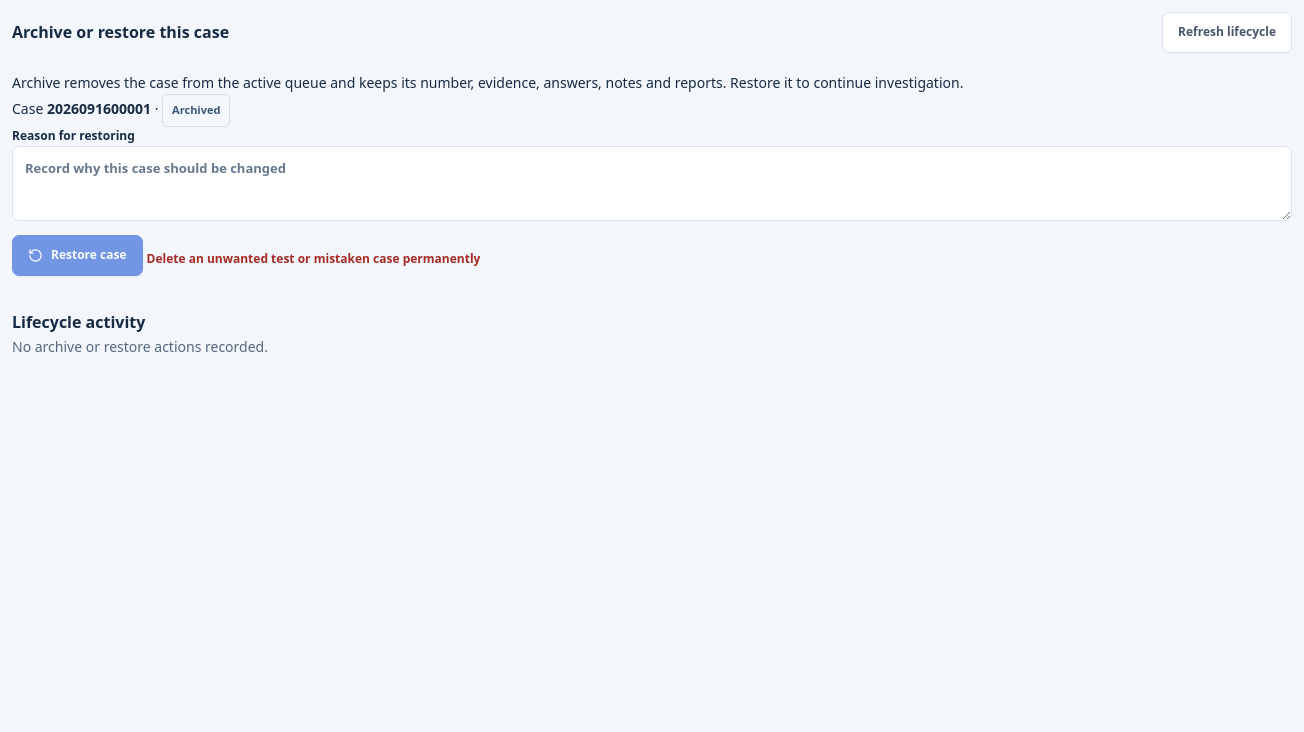
Test: private case lifecycle › leaves deletion mode when refresh finds that another session restored the case
The image size is (1304, 732).
Check: the text "2026091600001" is shown, box [47,99,151,118]
Click the button "Delete an unwanted test or mistaken case permanently" at point(313, 259), box [142,237,484,281]
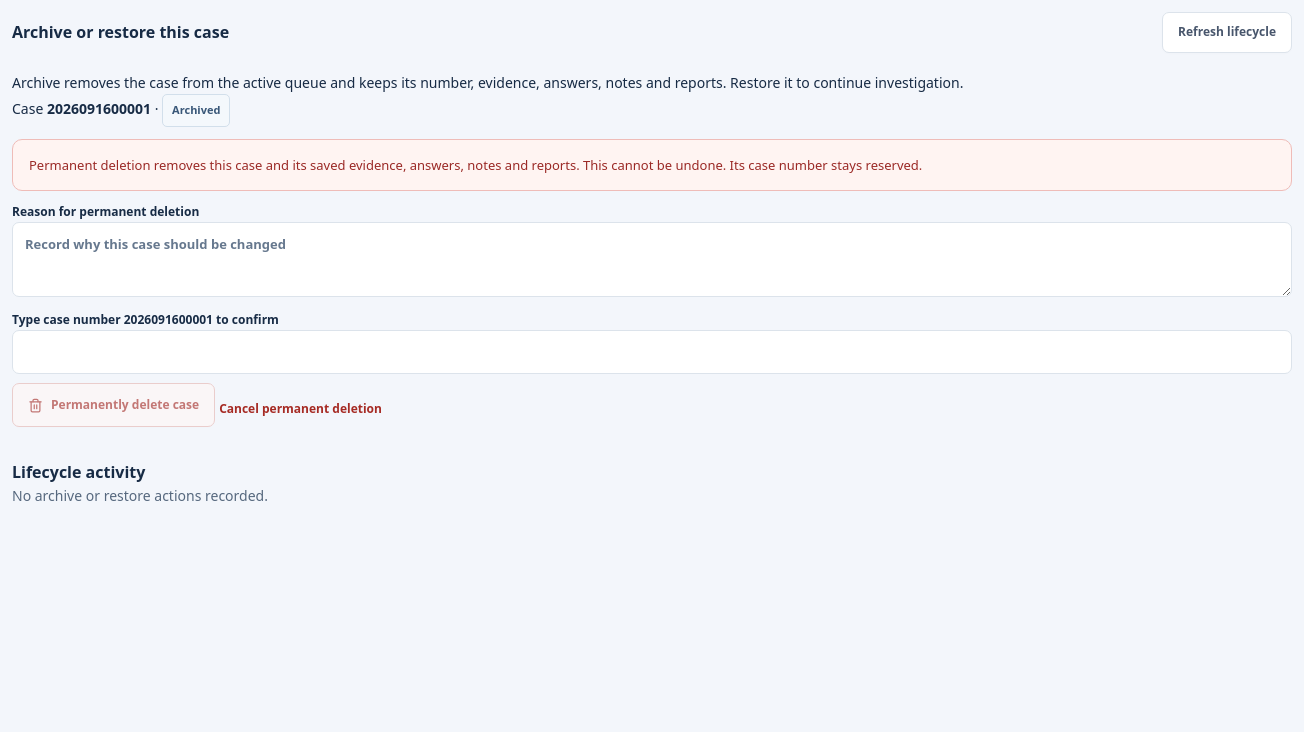
Type "No longer needed for investigation" into the text box labelled "Reason for permanent deletion" at point(652, 259), box [12,222,1292,297]
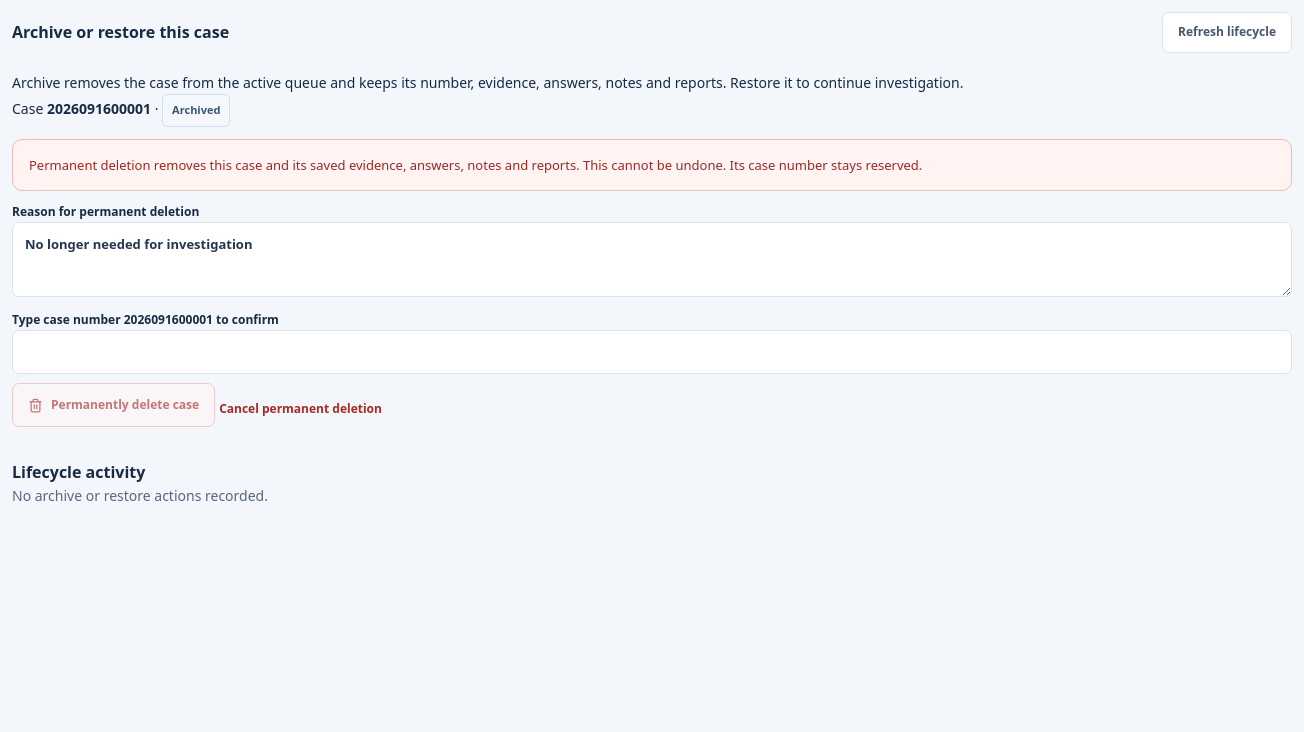
Type "2026091600001" into the field labelled "Type case number 2026091600001 to confirm" at point(652, 352), box [12,330,1292,374]
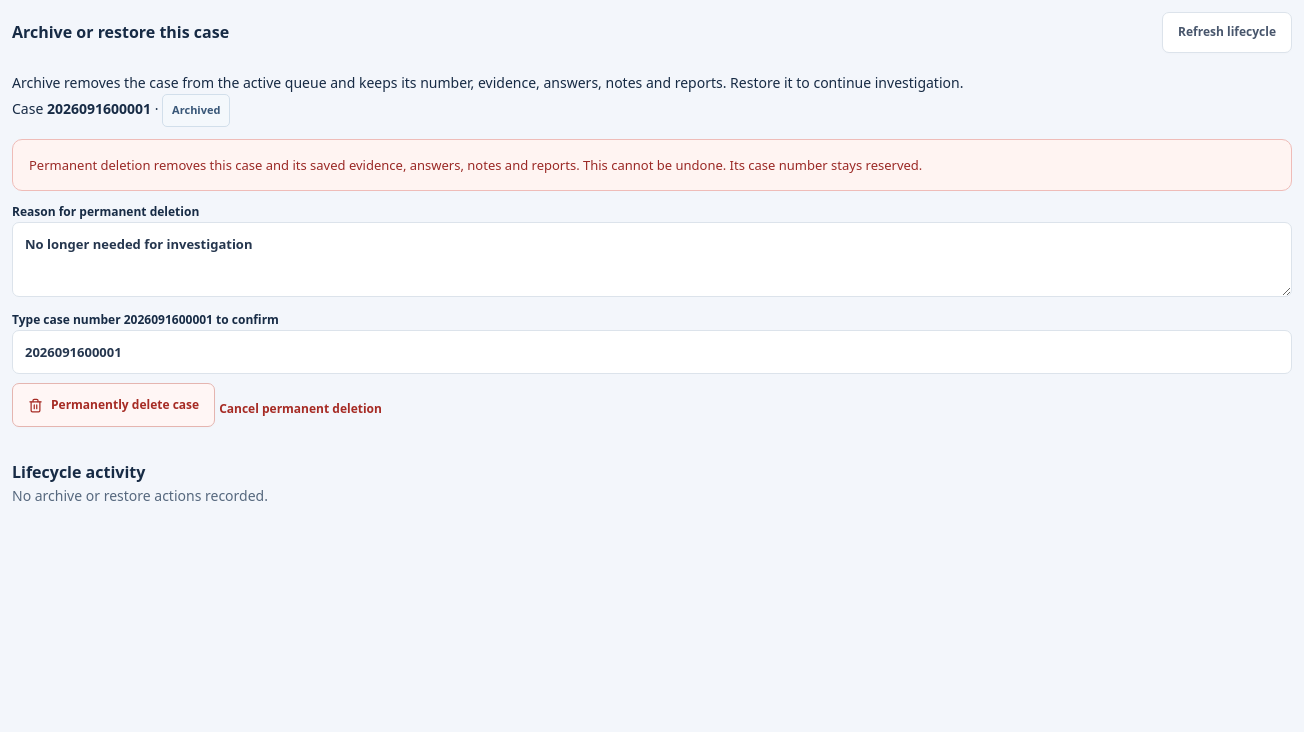
Click the button "Refresh lifecycle" at point(1227, 32), box [1162,12,1292,53]
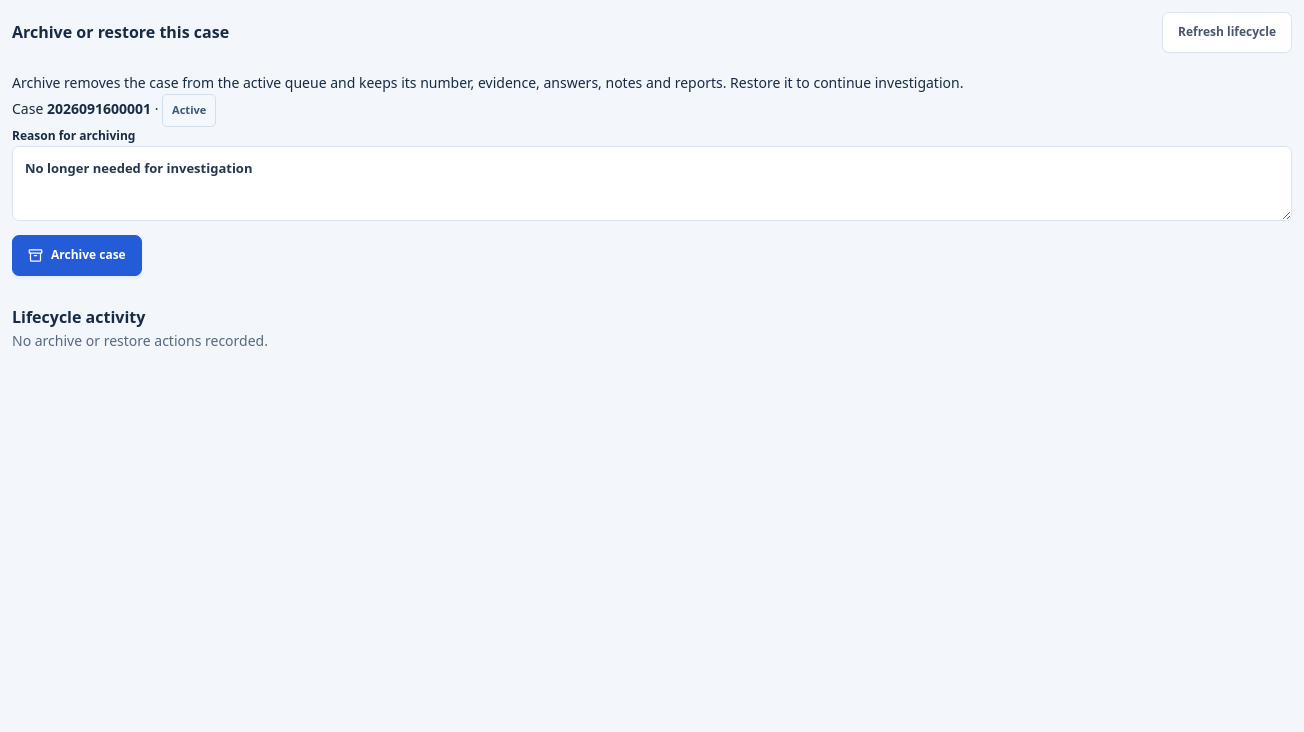
Check: the button "Archive case" is enabled, box [12,235,142,276]
Check: the label labelled "Type case number" is gone
Check: the button "Permanently delete case" is gone
